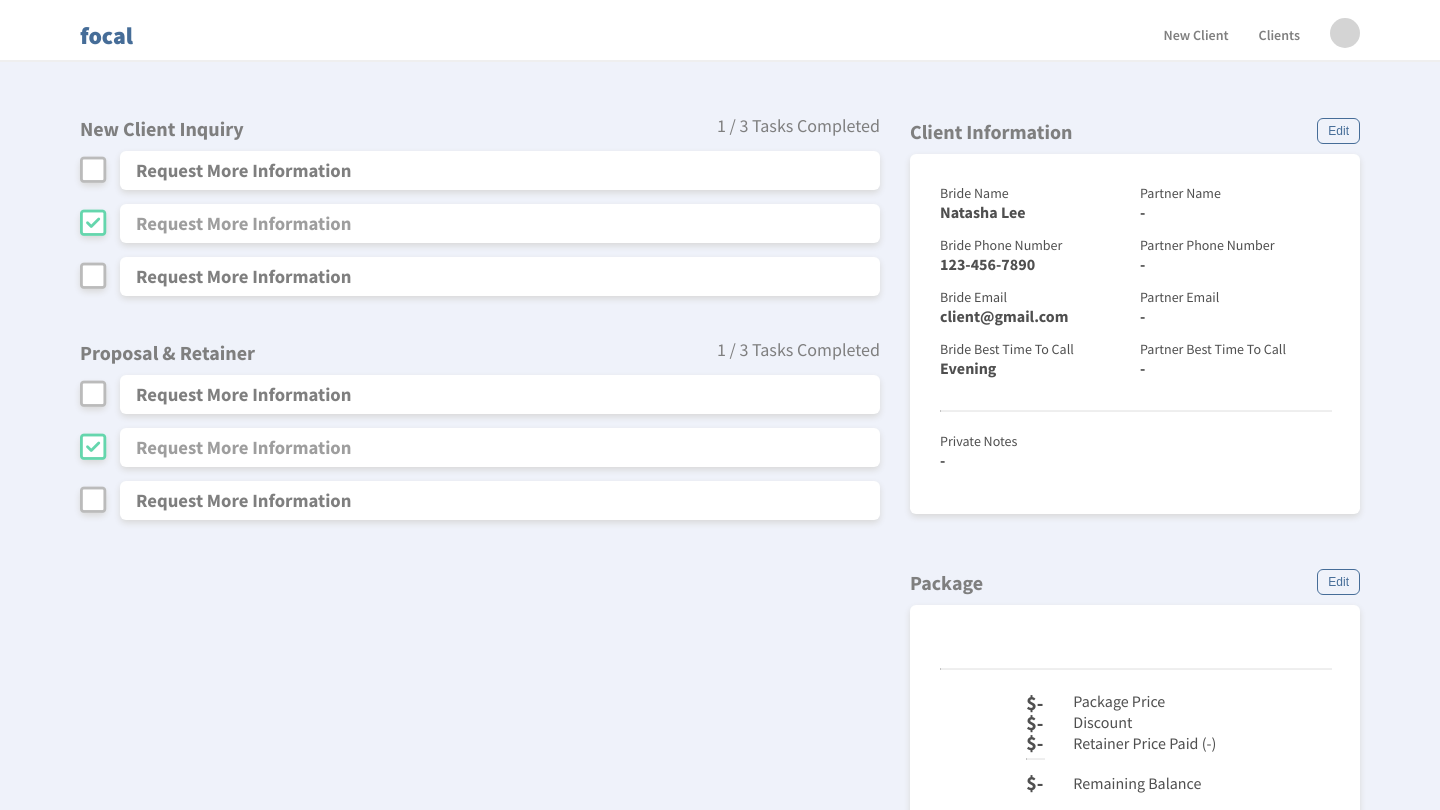
Test case: Workflow Flow › renders closeout, engagement and wedding workflow after      creating a new package with engagement and wedding toggled as included
The image size is (1440, 810).
Expected: the heading "Natasha Lee" is shown, [940,202,1026,222]
Click the button with test id "edit-package-btn".
click(1339, 582)  # box [1317,569,1360,595]
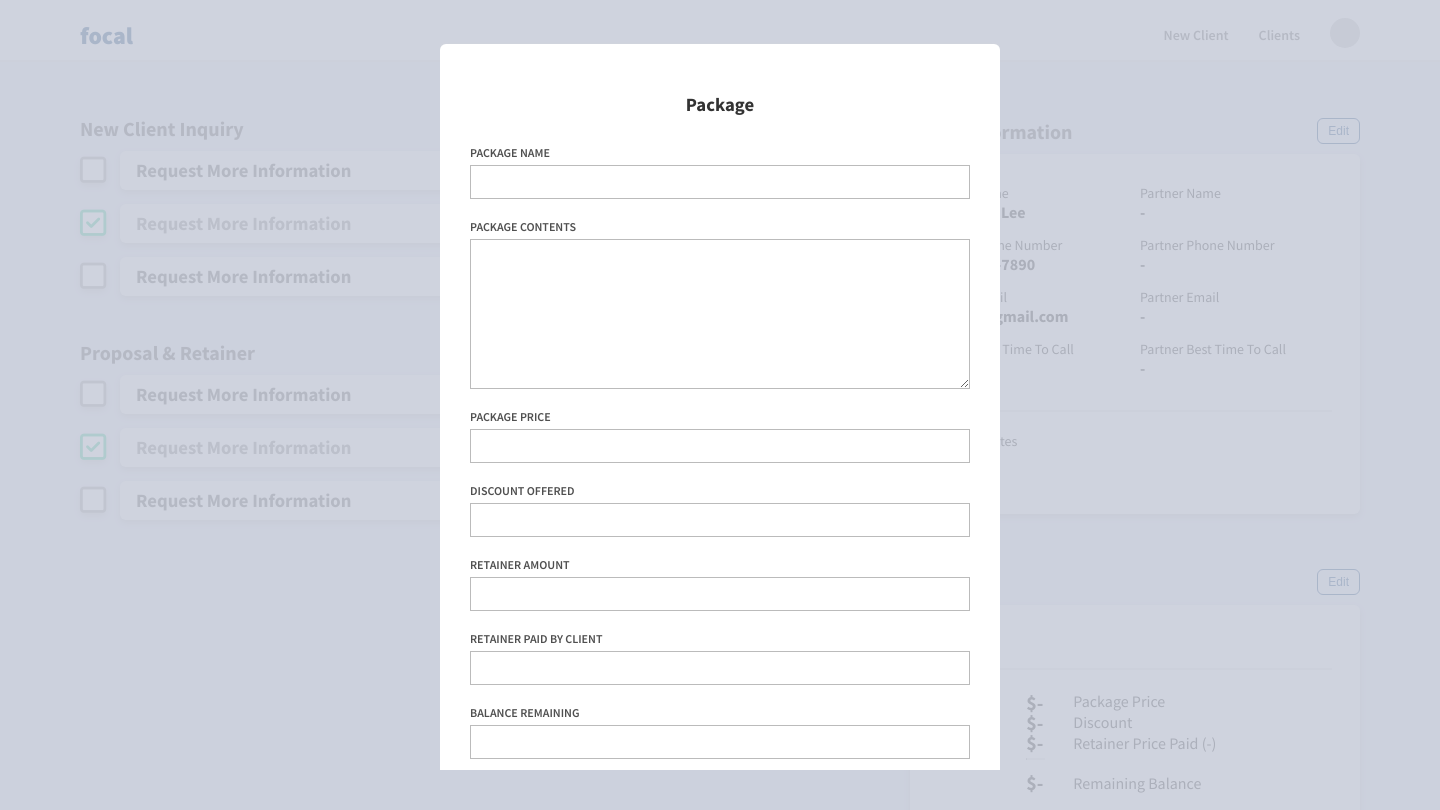
Type "Wedding Classic" into the field labelled "Package Name".
click(720, 181); type("Wedding Classic")  # box [470,164,970,198]
(page scrolled)
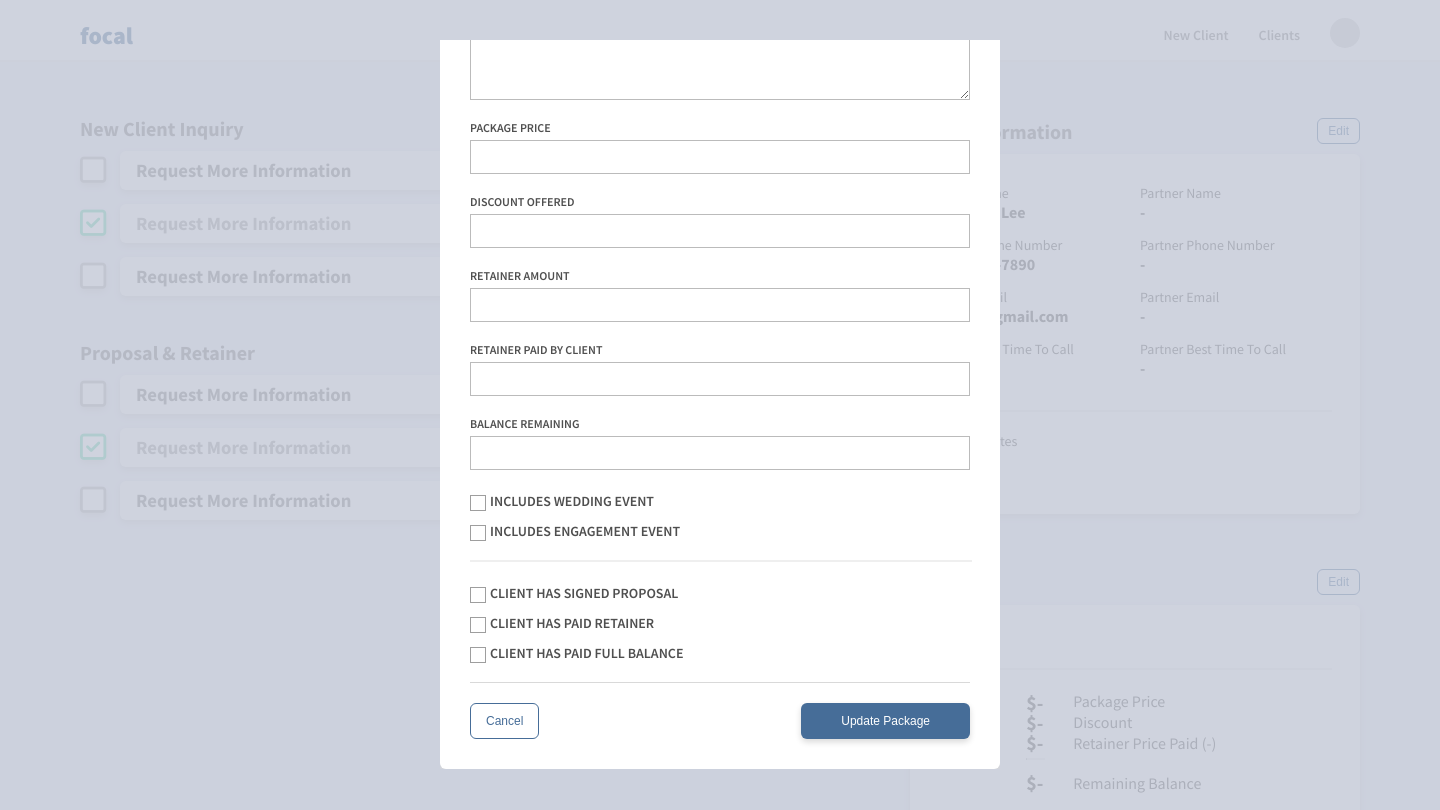
Click the checkbox labelled "Includes Engagement Event".
click(585, 531)  # box [490,522,680,540]
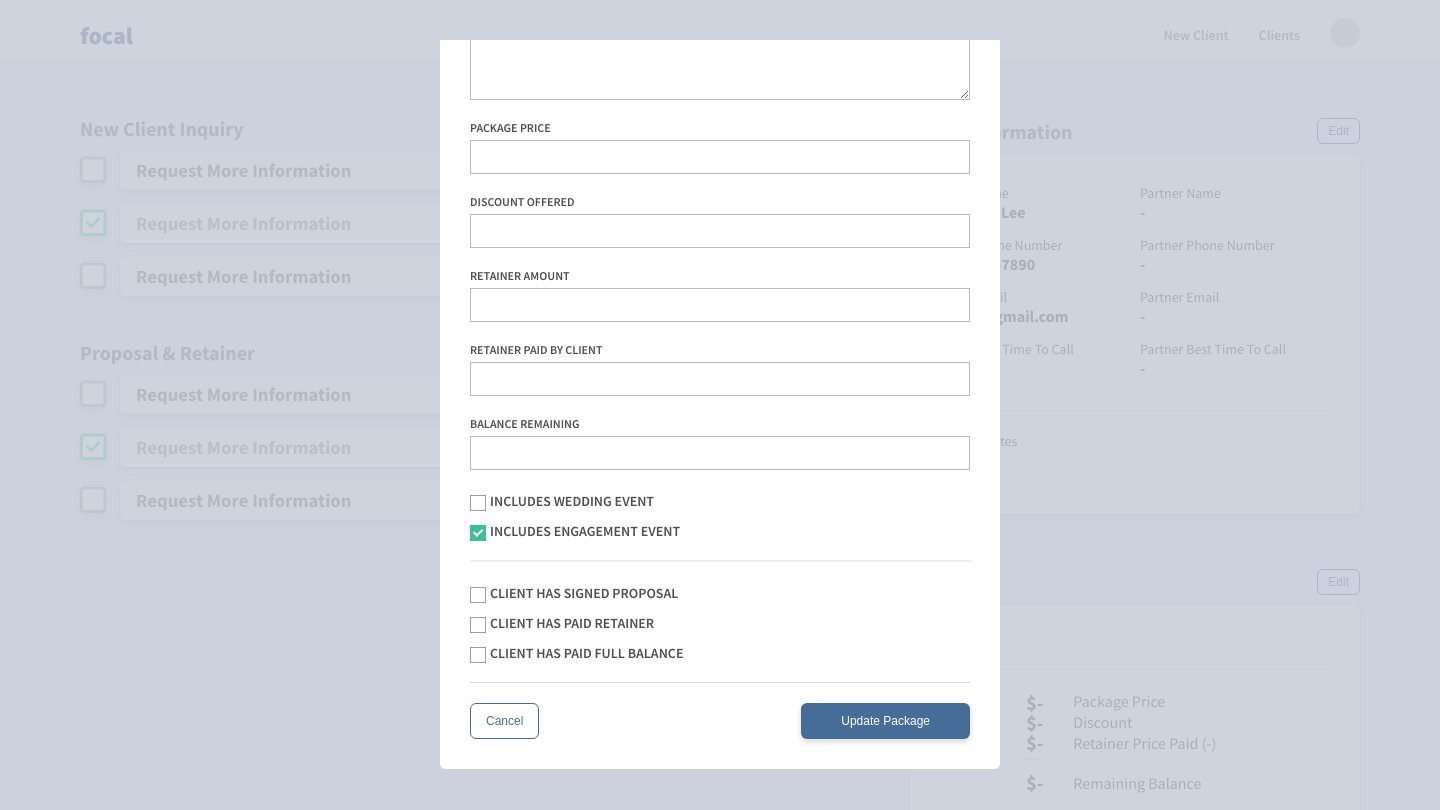
Click the checkbox labelled "Includes Wedding Event".
click(572, 501)  # box [490,492,654,510]
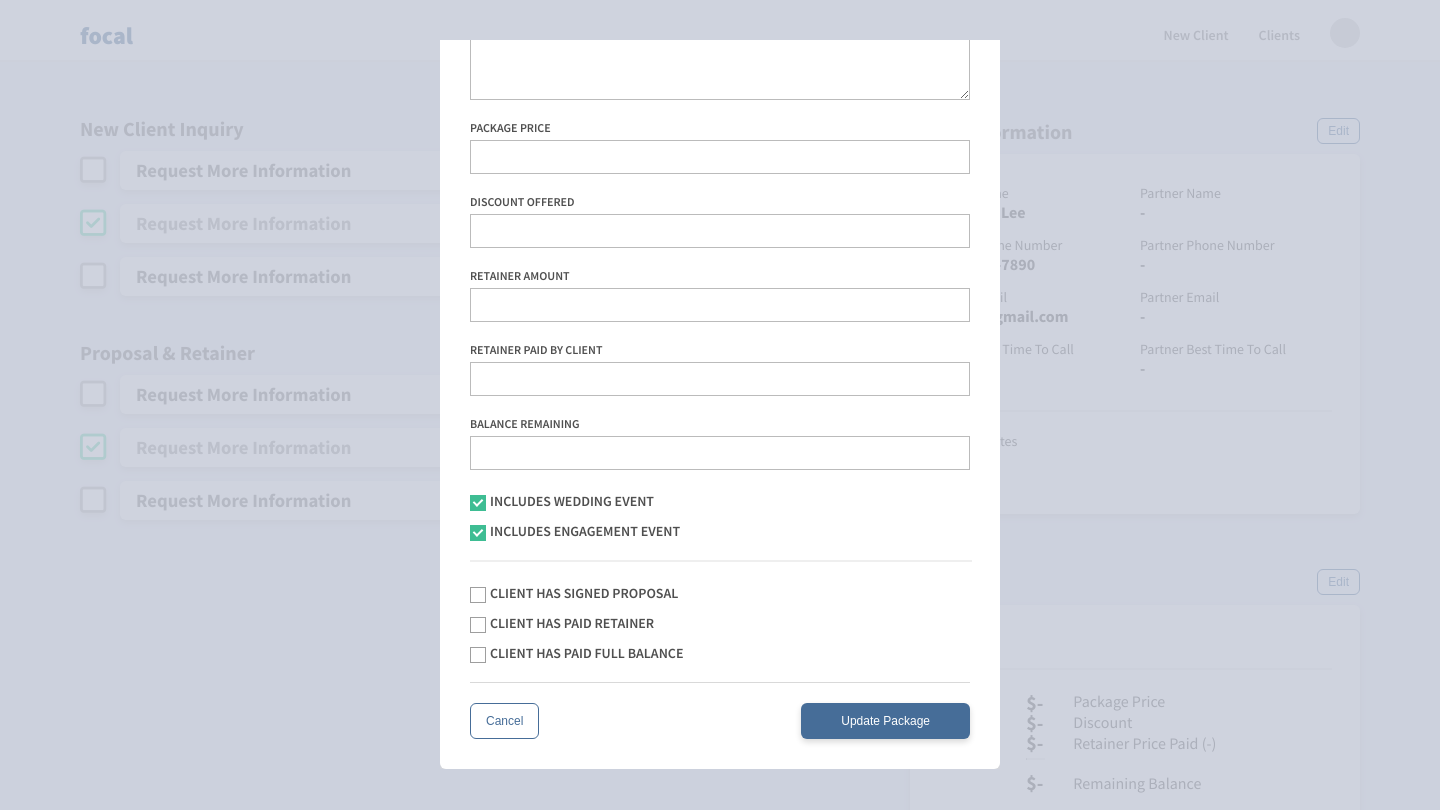
Click the button "Update Package".
click(886, 721)  # box [801,703,970,739]
(page scrolled)
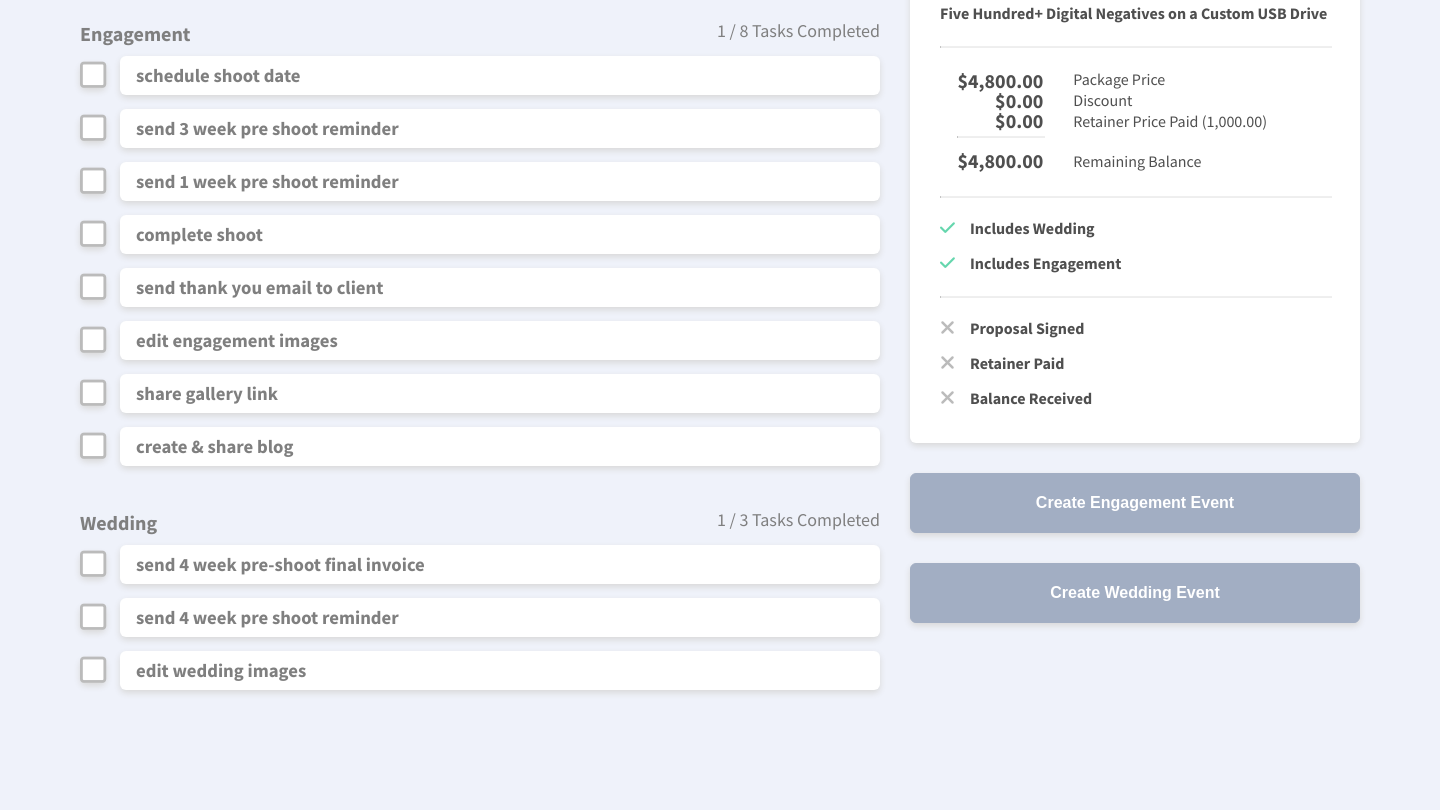
Result: the heading "schedule shoot date" is shown at [136,64,300,87]
Result: the heading "send 3 week pre shoot reminder" is shown at [136,117,399,140]
Result: the heading "send 1 week pre shoot reminder" is shown at [136,170,399,193]
